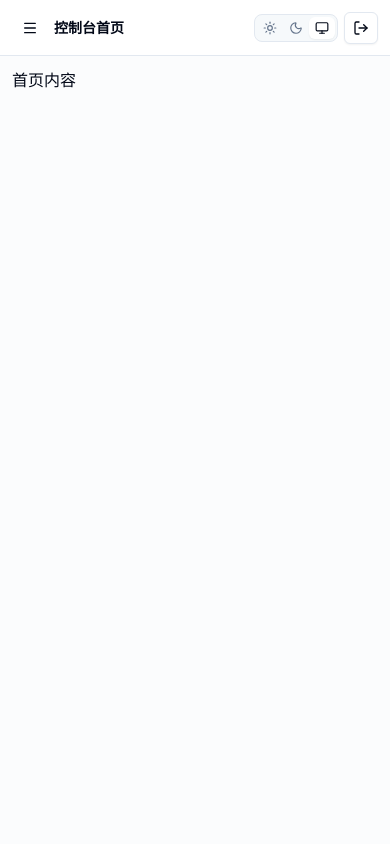
Scenario: AdminLayout 通用后台骨架 › 移动端抽屉可通过顶栏汉堡按钮打开并通过遮罩关闭
This screenshot has width=390, height=844.
What coordinates should you click on to do the following:
click the button named "打开导航菜单"
I would click on:
 (30, 28)
Its box is 12,10 -> 48,46.
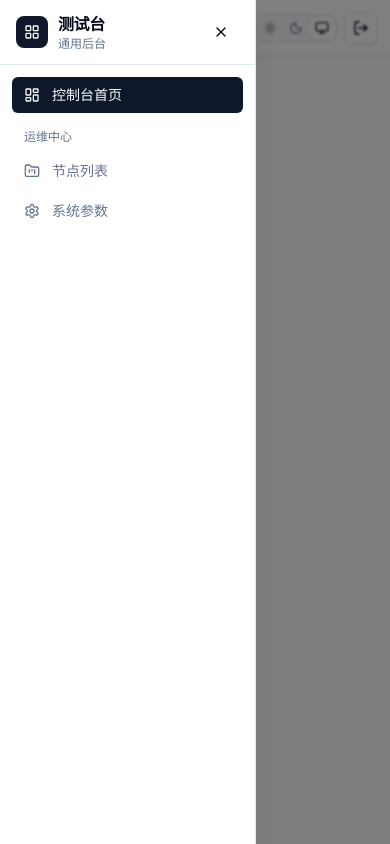
Expected: the dialog named "导航菜单" is shown
What coordinates should you click on to do the following:
click the element with test id "sidebar-backdrop"
I would click on:
 (367, 422)
Its box is 0,0 -> 389,843.
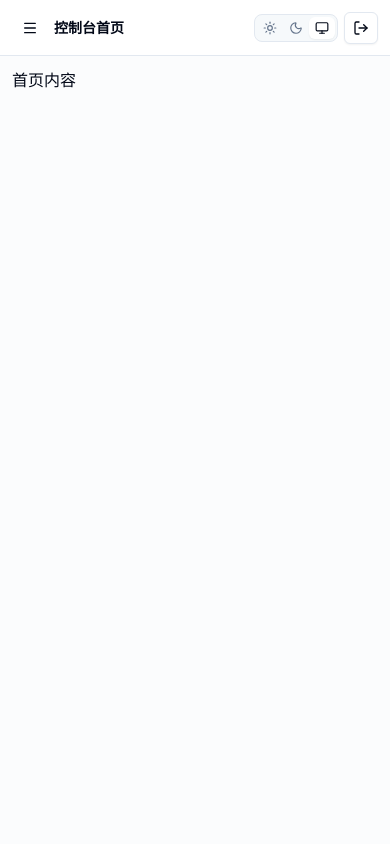
Expected: the dialog "导航菜单" is gone
